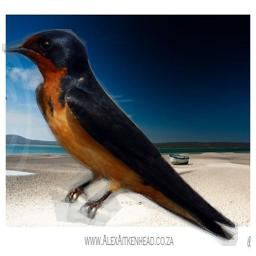Swallow: (2, 29, 238, 246)
